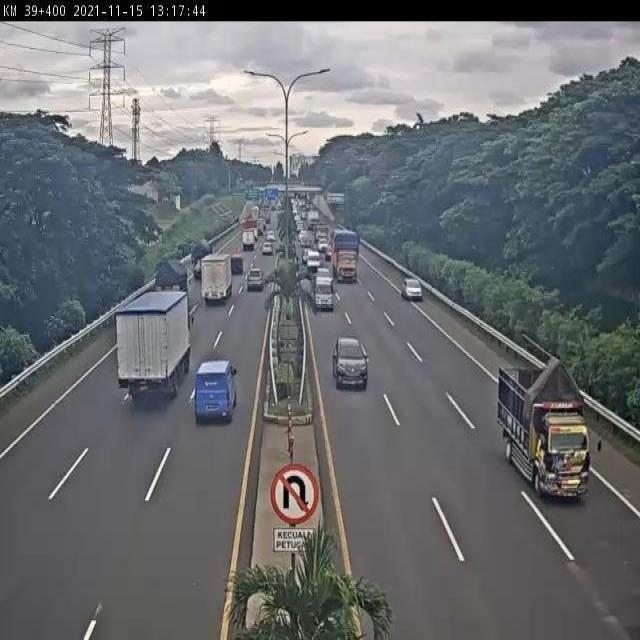Car: (333, 337, 369, 391), (313, 274, 335, 312), (401, 278, 423, 302), (246, 267, 265, 291), (304, 250, 320, 272), (317, 240, 328, 257), (262, 240, 273, 255)
Truck: (498, 358, 592, 501), (116, 291, 192, 400), (331, 228, 359, 283), (200, 254, 232, 302), (241, 229, 255, 252)
Van: (193, 360, 237, 423)
